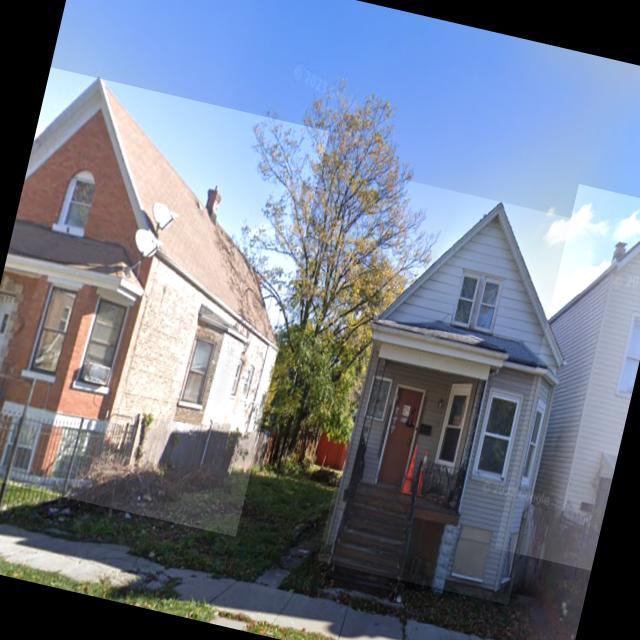House: (0, 66, 328, 536), (317, 180, 596, 604), (494, 184, 640, 571)
